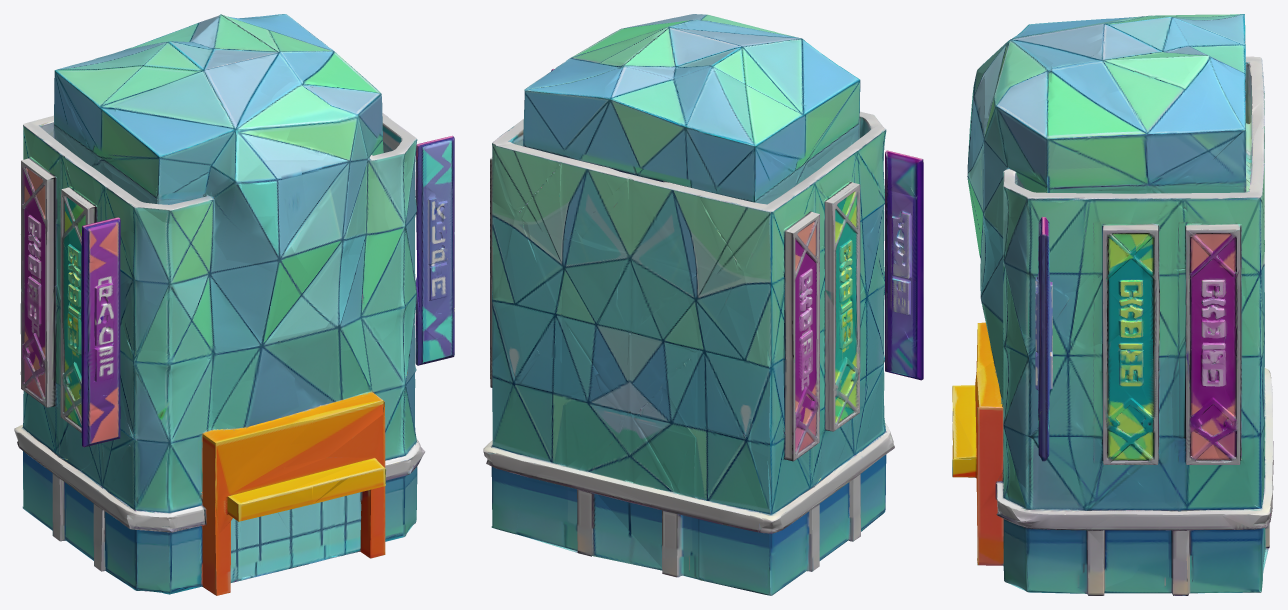
File: deptstore.glb
3 renders of one model, left to right at view 1: azimuth 30°, elevation 25°; view 2: azimuth 150°, elevation 25°; view 3: azimuth 270°, elevation 25°, orthographic. The views are drawn at different scales.
Size of the model in its own units: 1.56 by 1.9 by 1.13.
Materials: 1 (1 with a texture image).
